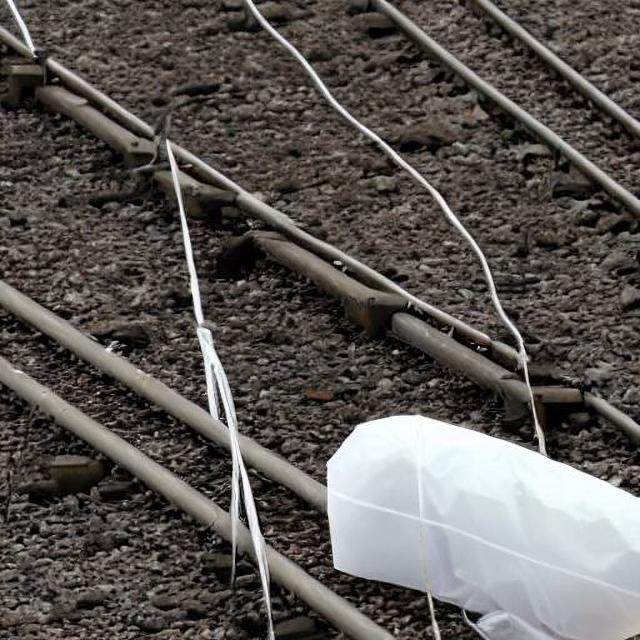plastic bag: (312, 407, 639, 639)
